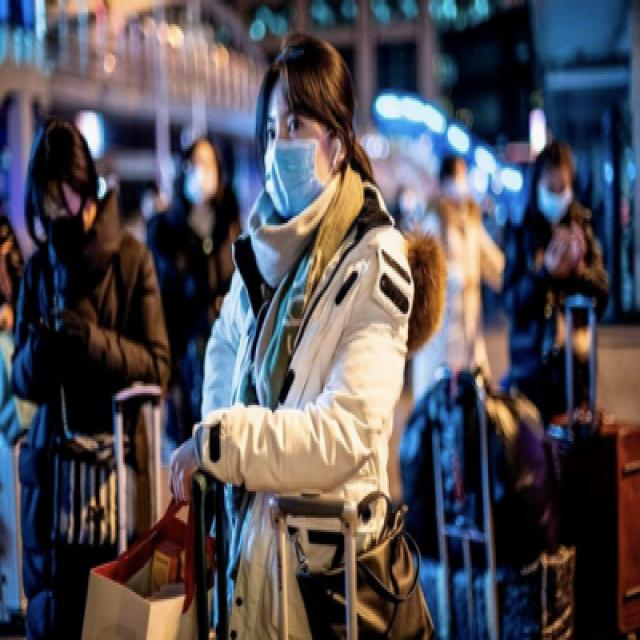with_mask: (264, 100, 328, 216), (38, 190, 92, 252), (182, 146, 220, 202), (538, 173, 576, 225)
